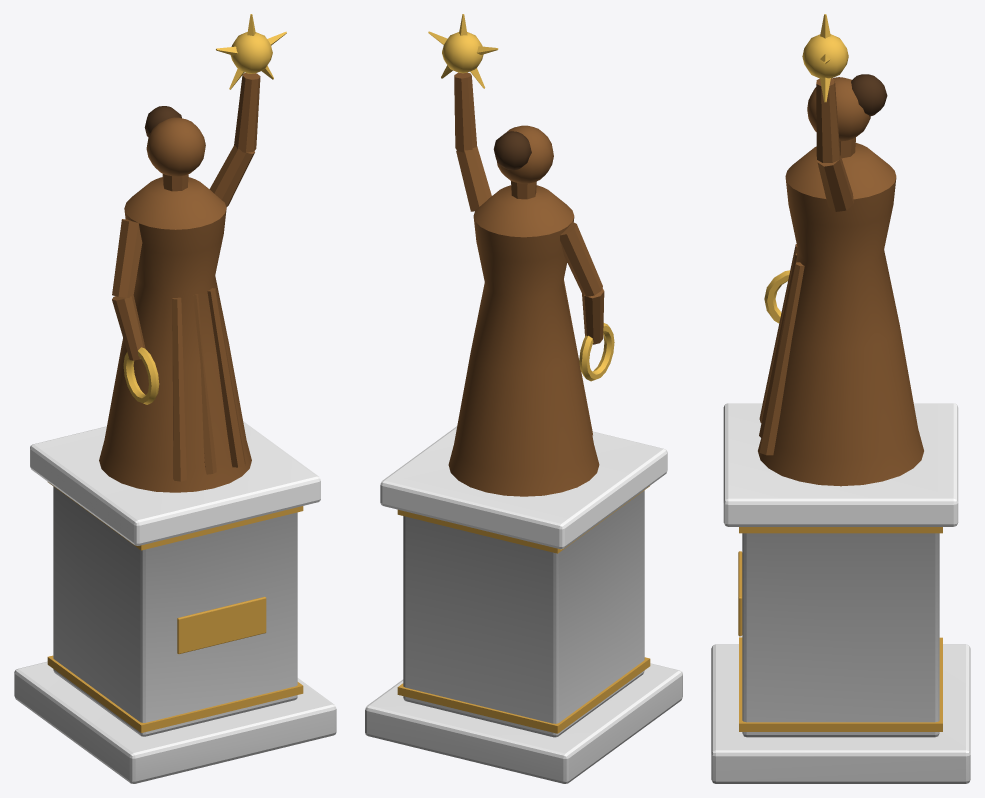
The model's file is statue.glb.
The picture shows the model from 3 angles, left to right: view 1: azimuth 30°, elevation 25°; view 2: azimuth 150°, elevation 25°; view 3: azimuth 270°, elevation 25°; orthographic projection. The views are drawn at different scales.
Parts seen in each view (by area): view 1: statue_lod0; view 2: statue_lod0; view 3: statue_lod0.
Part boxes in pixels (bbox=[...]): statue_lod0: bbox=[14, 14, 336, 783]; statue_lod0: bbox=[365, 14, 682, 783]; statue_lod0: bbox=[711, 14, 970, 783].
Size of what is drawn, in the model's own units: 0.8438 by 2.69 by 0.8399.
